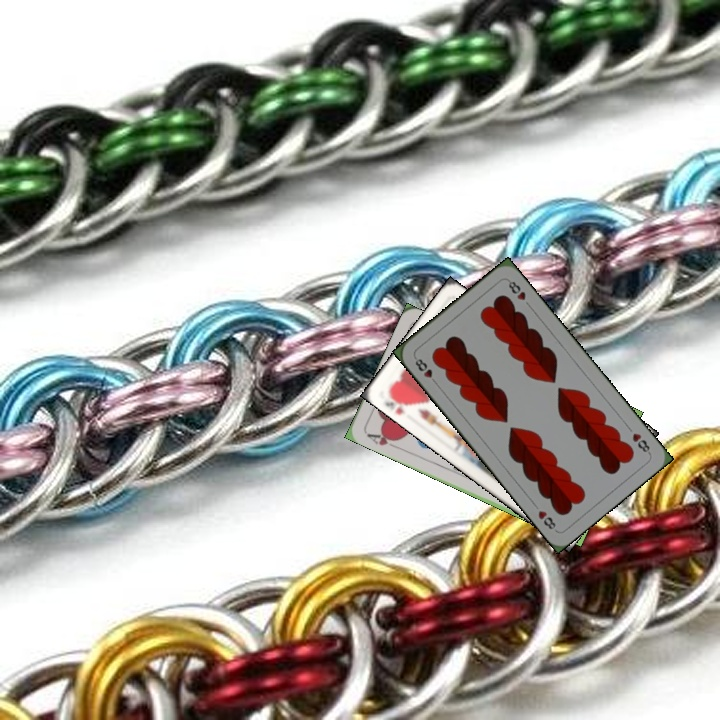H8: (410, 353, 440, 387), (628, 429, 653, 457)
HA: (363, 428, 401, 451)
HK: (381, 394, 410, 417)
